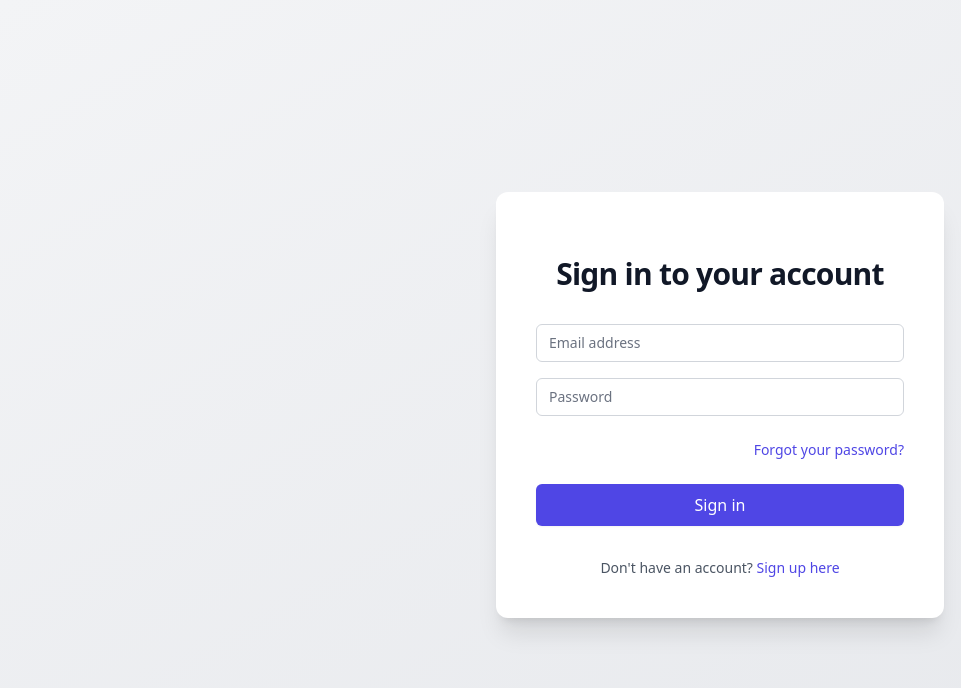
it: LoginPage Component › displays error message on failed login
Type "wrong@example.com" into the field with placeholder "Email address" at (720, 343), box [536,324,904,362]
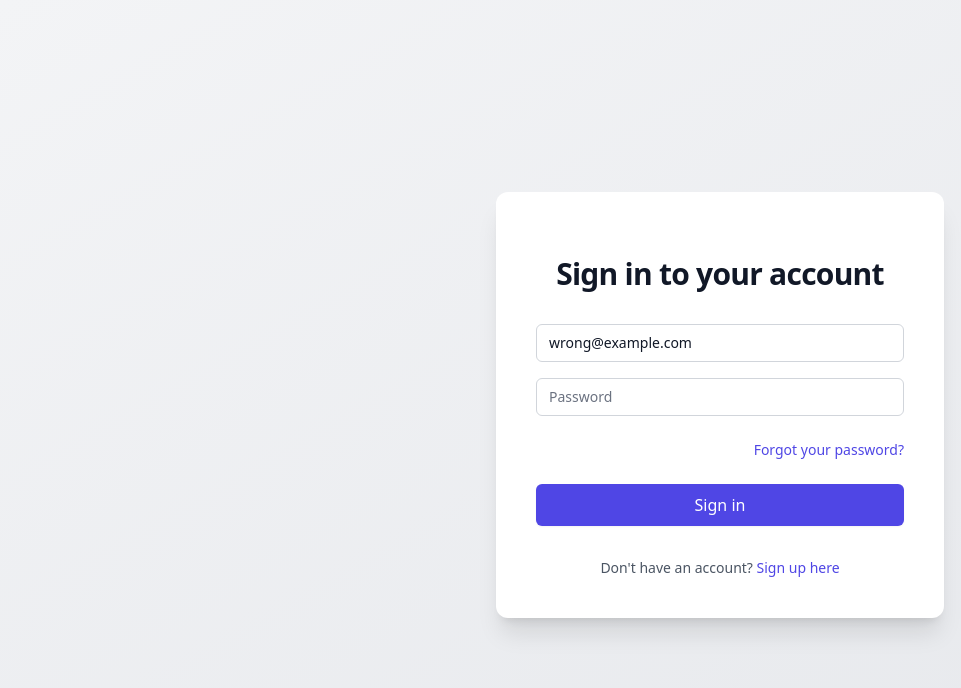
Type "wrongpass" into the password field with placeholder "Password" at (720, 397), box [536,378,904,416]
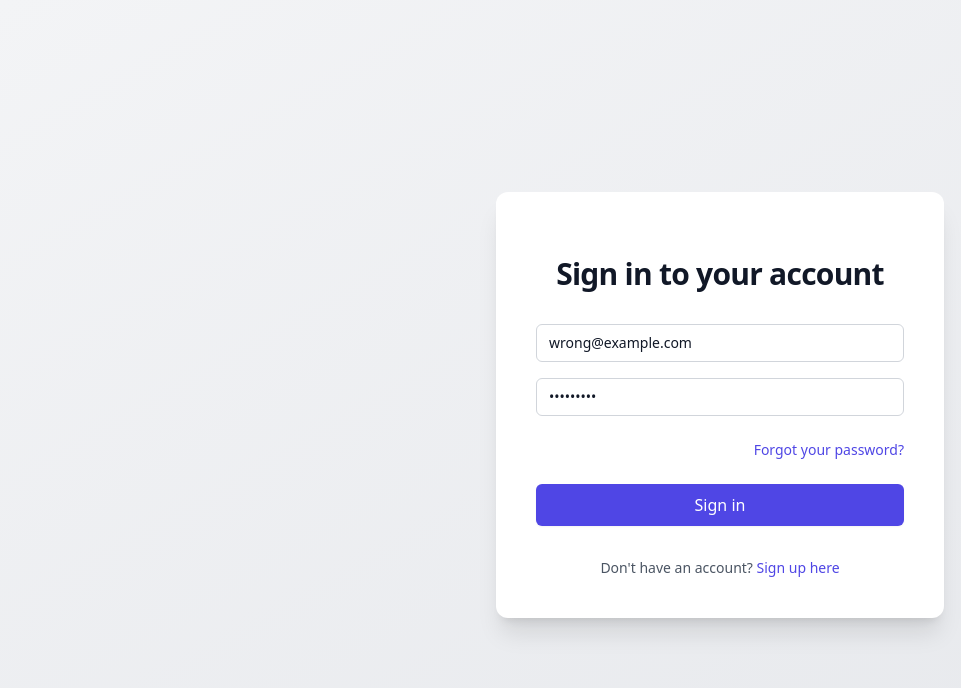
Click the button "Sign in" at (720, 505), box [536,484,904,526]
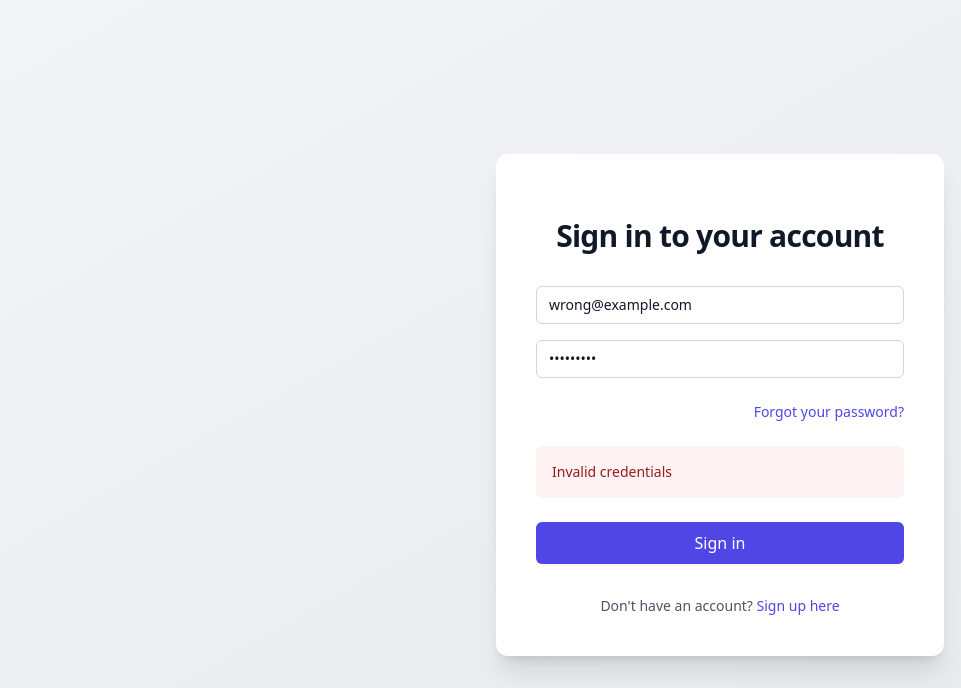
Result: the text "Invalid credentials" is shown at [552,462,672,481]
